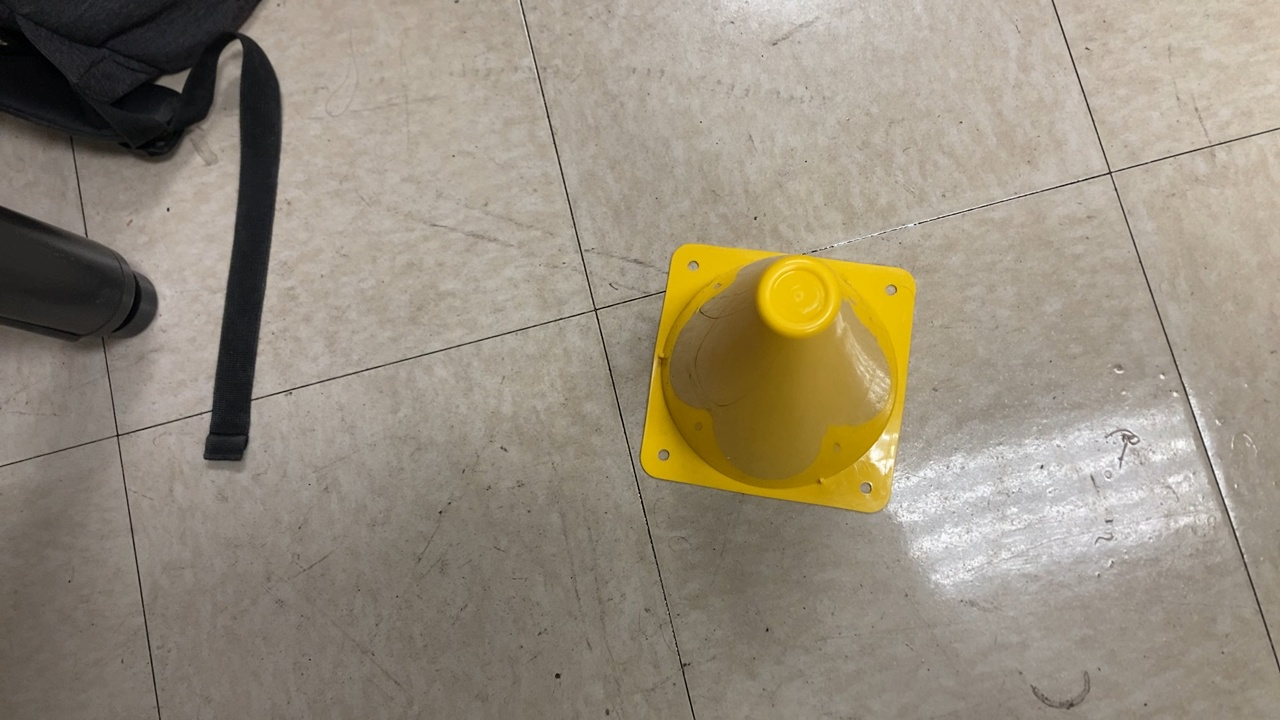yellow_cone: (634, 238, 924, 520)
